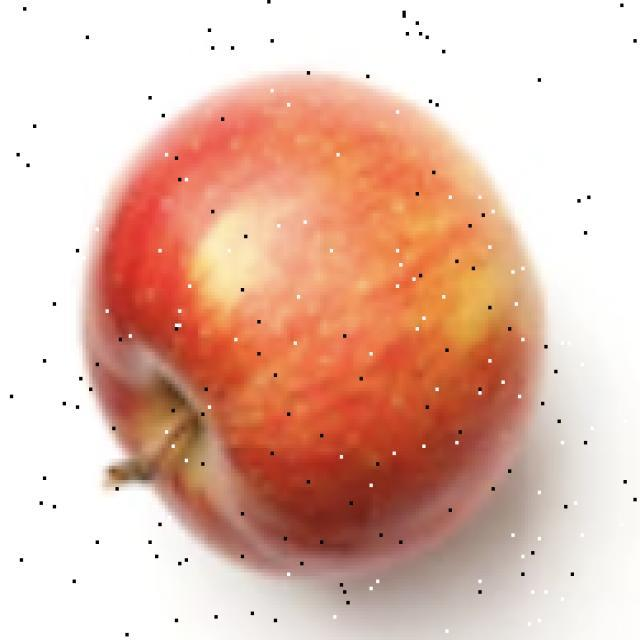Fresh Apple: (92, 90, 548, 587)
